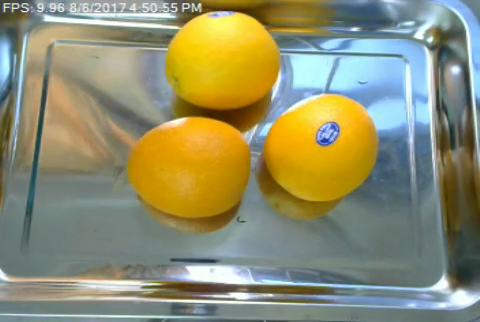Orange: (127, 115, 252, 219), (261, 91, 376, 201), (164, 10, 281, 109)
